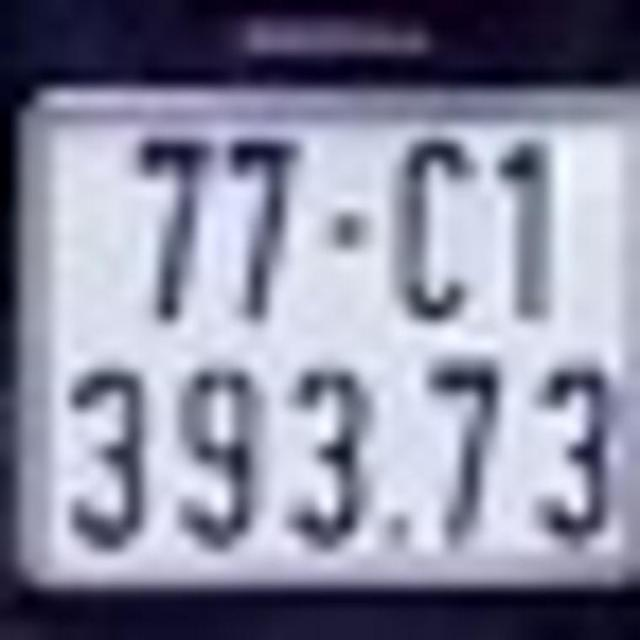1: (497, 130, 561, 320)
3: (285, 361, 367, 560), (64, 358, 141, 556), (538, 354, 611, 553)
7: (128, 127, 211, 330), (417, 348, 503, 542), (223, 130, 301, 328)
9: (174, 357, 256, 558)
C: (390, 130, 477, 320)
